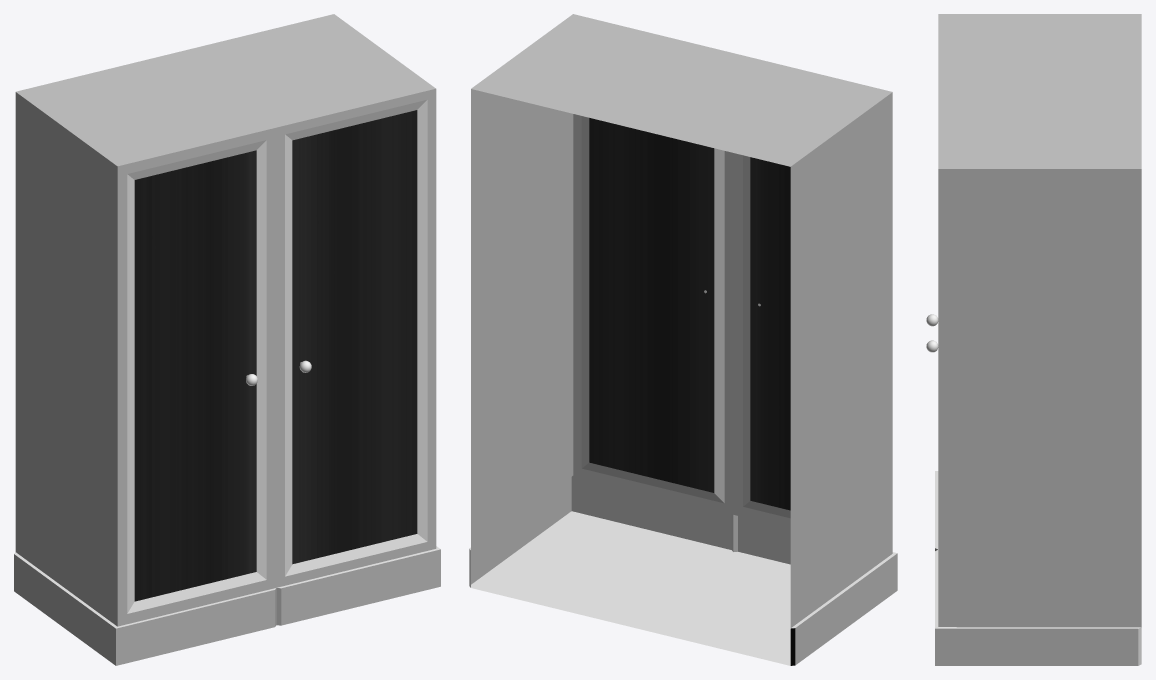
File: judges Wardrobe.FBX
3 views of the same model, side by side, from view 1: azimuth 30°, elevation 25°; view 2: azimuth 150°, elevation 25°; view 3: azimuth 270°, elevation 25° (orthographic).
Parts seen in each view (by area): view 1: Box001; view 2: Box001; view 3: Box001.
Boxes of the visible parts, x1,y1,x2,y2 form: Box001: (14,14,440,665); Box001: (469,14,897,665); Box001: (935,14,1141,665).
Size of the model in its own units: 37.12 by 54.31 by 21.35.
